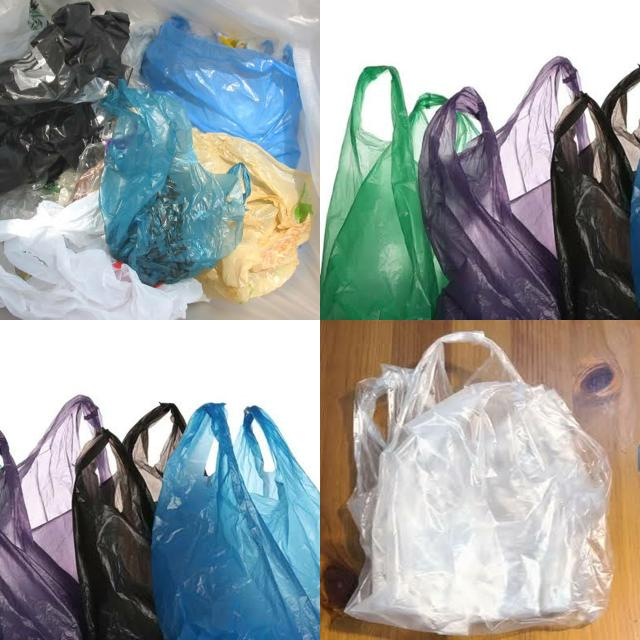Single-layer Plastic: (345, 331, 611, 634), (152, 404, 320, 640), (419, 88, 560, 320), (99, 80, 251, 285), (320, 66, 440, 318), (72, 402, 186, 639), (0, 192, 205, 319), (0, 395, 102, 639), (0, 2, 130, 193), (141, 20, 302, 168), (192, 129, 315, 302), (550, 94, 639, 319), (496, 56, 580, 254)
